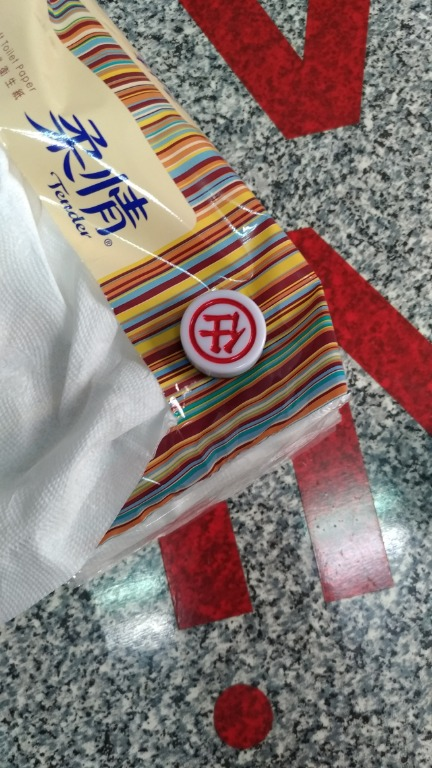r-advisor: (161, 284, 296, 393)
